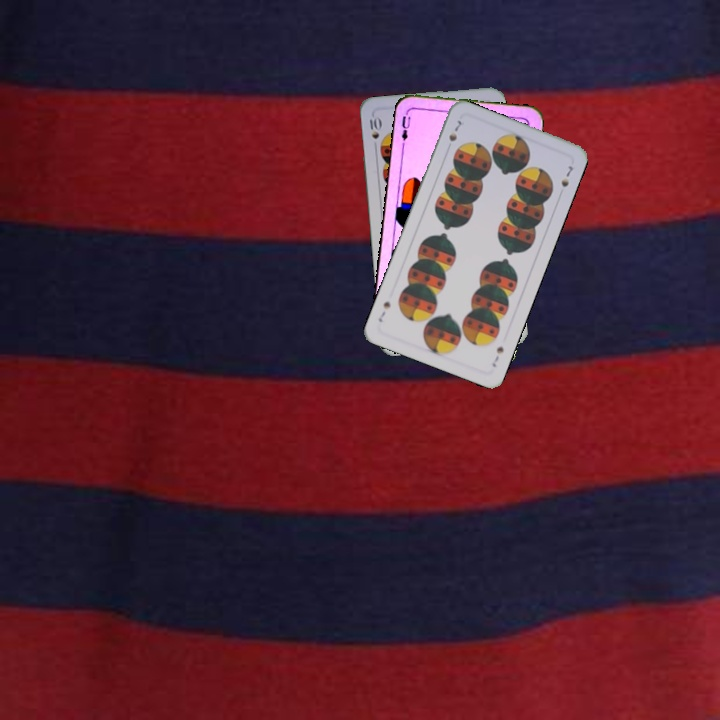EU: (397, 112, 413, 147)
S10: (365, 112, 383, 152)
S7: (445, 116, 464, 144), (488, 342, 506, 370)
